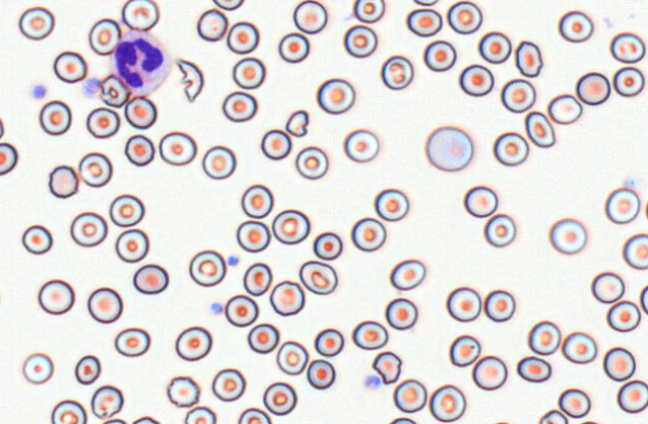GRAN: (108, 29, 173, 98)
PLT: (81, 76, 102, 100), (363, 374, 383, 389), (31, 83, 47, 99), (207, 302, 223, 315), (227, 254, 240, 266)
RBC: (425, 125, 473, 171), (548, 217, 587, 254), (188, 249, 226, 286), (429, 384, 466, 422), (316, 78, 355, 114), (37, 278, 75, 314), (69, 211, 107, 247), (271, 209, 310, 244), (175, 325, 212, 361), (604, 187, 640, 224), (299, 260, 337, 295), (158, 131, 196, 166), (269, 280, 305, 316), (87, 286, 122, 323), (471, 355, 507, 390), (446, 286, 481, 322), (493, 131, 529, 166), (18, 6, 55, 40), (88, 17, 121, 55), (500, 78, 535, 113), (392, 378, 427, 413), (78, 151, 112, 187), (350, 217, 386, 251), (446, 0, 482, 34), (343, 128, 379, 162), (262, 381, 297, 415), (109, 193, 144, 227), (201, 145, 236, 179), (292, 0, 327, 34), (602, 346, 636, 381), (575, 71, 610, 105), (380, 54, 413, 90), (458, 63, 494, 96), (561, 331, 597, 364), (121, 0, 159, 31), (115, 228, 149, 262), (343, 24, 377, 58), (211, 368, 246, 401), (90, 384, 123, 419), (527, 320, 560, 355), (38, 100, 71, 135), (374, 188, 409, 221), (558, 10, 593, 43), (609, 31, 645, 63), (389, 258, 425, 290), (224, 294, 258, 327), (240, 184, 273, 218), (295, 145, 328, 179), (483, 213, 516, 247), (53, 50, 87, 83), (276, 340, 308, 375), (463, 185, 498, 217), (85, 106, 120, 138), (132, 263, 168, 294), (405, 7, 442, 37), (351, 320, 388, 350), (226, 21, 259, 54), (232, 56, 265, 89), (478, 31, 511, 64), (236, 220, 270, 252), (166, 375, 200, 407), (616, 379, 648, 413), (606, 300, 640, 332), (547, 93, 582, 124), (222, 91, 257, 122), (114, 327, 150, 357), (124, 96, 156, 129), (196, 8, 228, 41), (483, 289, 515, 322), (448, 334, 480, 367), (591, 271, 624, 303), (385, 297, 417, 330), (48, 164, 79, 198), (423, 40, 456, 71), (242, 262, 272, 296), (247, 322, 279, 353), (260, 128, 291, 160), (22, 352, 53, 384), (278, 31, 309, 63), (613, 66, 644, 97), (124, 134, 154, 166), (558, 388, 590, 418), (516, 355, 551, 382), (21, 224, 52, 254), (313, 327, 344, 357), (50, 399, 86, 424), (306, 358, 335, 389), (312, 231, 342, 260), (623, 233, 647, 269), (74, 354, 101, 384), (352, 0, 384, 23), (0, 141, 18, 175), (184, 405, 216, 423), (237, 407, 271, 423), (538, 409, 568, 424), (212, 0, 244, 10), (622, 175, 640, 191), (640, 284, 648, 314), (387, 416, 417, 424), (131, 415, 160, 423), (412, 0, 439, 6), (101, 418, 127, 424), (0, 116, 5, 139), (576, 420, 601, 424), (0, 283, 3, 315), (645, 195, 648, 223), (623, 0, 648, 3), (489, 421, 513, 424)
Schistocyte: (175, 57, 205, 104), (525, 111, 558, 151), (515, 39, 544, 77), (373, 351, 403, 385), (101, 75, 129, 106), (285, 109, 310, 137)
